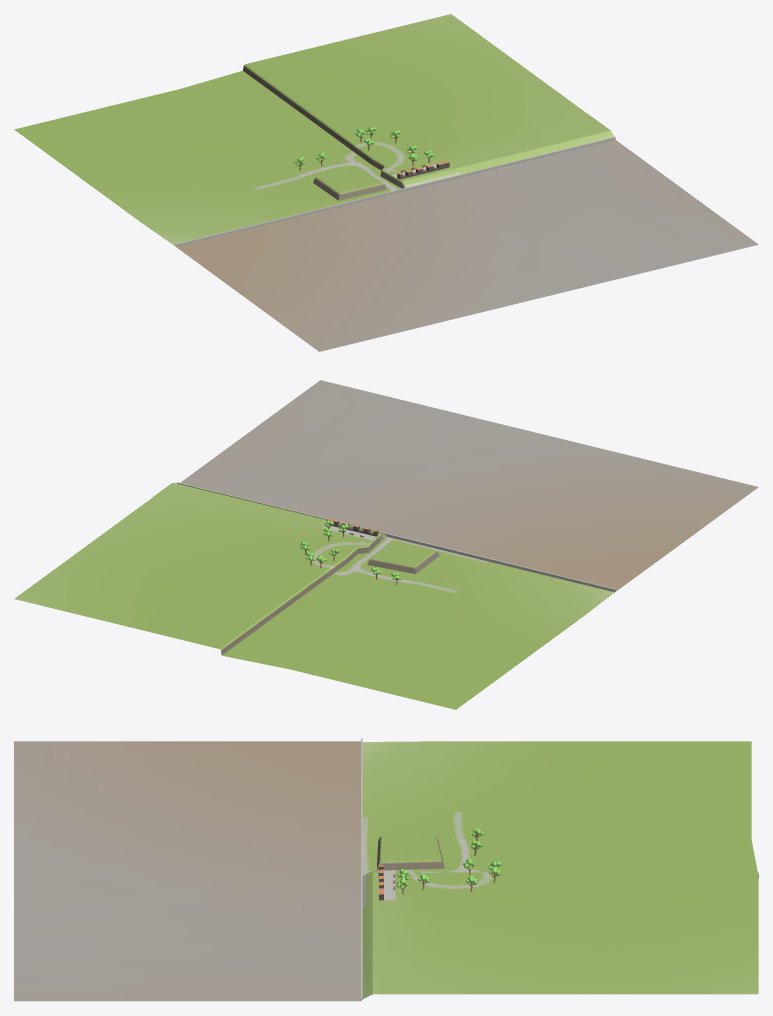
3 renders of one model, top to bottom at view 1: azimuth 30°, elevation 25°; view 2: azimuth 150°, elevation 25°; view 3: azimuth 270°, elevation 25°, orthographic. The views are drawn at different scales.
Visible parts, largest first — view 1: ForteDoPresepio.001, ForteDoPresepio.002, Cylinder; view 2: ForteDoPresepio.001, ForteDoPresepio.002, Cylinder; view 3: ForteDoPresepio.001, ForteDoPresepio.002, Cylinder.
Part boxes in pixels (bbox=[...]): ForteDoPresepio.001: bbox=[14, 14, 615, 246]; ForteDoPresepio.002: bbox=[176, 140, 758, 351]; Cylinder: bbox=[294, 126, 434, 170]; ForteDoPresepio.001: bbox=[14, 482, 615, 709]; ForteDoPresepio.002: bbox=[180, 380, 758, 591]; Cylinder: bbox=[300, 520, 401, 585]; ForteDoPresepio.001: bbox=[361, 738, 758, 1000]; ForteDoPresepio.002: bbox=[14, 741, 360, 1001]; Cylinder: bbox=[396, 828, 501, 894].
Bounding box in the file's own units: 80.22 × 97.03 × 3.22.
